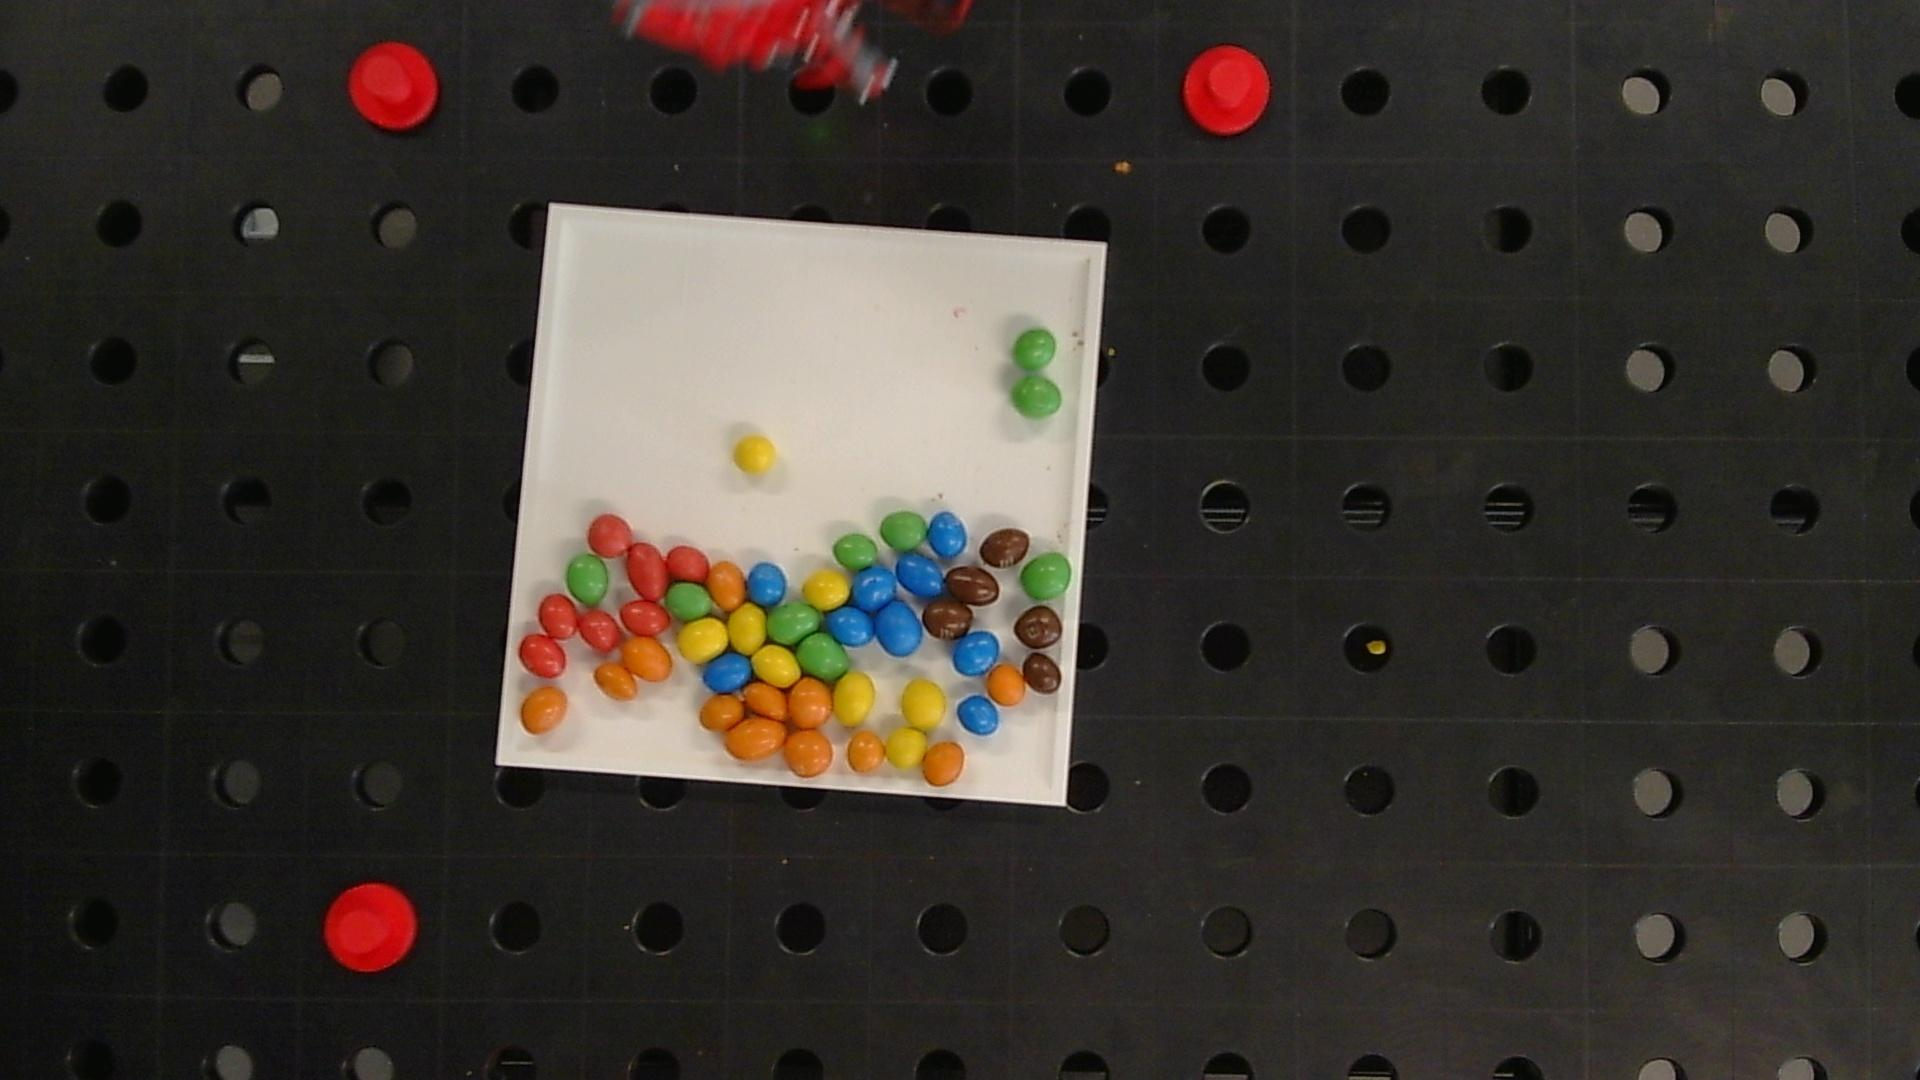blue: (876, 601, 923, 655), (895, 553, 943, 596), (953, 632, 1000, 675), (852, 568, 897, 612), (825, 608, 874, 646), (703, 654, 752, 692), (927, 512, 967, 556), (748, 562, 787, 604), (959, 695, 998, 736)
brown: (944, 566, 1000, 605), (1014, 605, 1063, 649), (922, 599, 972, 640), (980, 527, 1030, 567), (1023, 654, 1062, 694)
green: (798, 633, 848, 679), (767, 601, 822, 644), (1021, 554, 1071, 599), (566, 554, 609, 605), (1011, 376, 1063, 418), (881, 512, 927, 550), (1013, 330, 1056, 369), (833, 533, 877, 570), (667, 583, 711, 620)
orange: (724, 716, 786, 760), (621, 637, 673, 682), (521, 687, 568, 733), (785, 731, 833, 775), (789, 679, 832, 728), (922, 742, 964, 786), (709, 560, 746, 609), (847, 731, 885, 773), (595, 662, 637, 700), (745, 682, 787, 720), (988, 665, 1026, 705), (700, 694, 742, 731)
red: (628, 542, 667, 600), (520, 634, 567, 678), (587, 513, 632, 556), (621, 600, 671, 634), (539, 593, 578, 638), (578, 611, 620, 650), (666, 545, 709, 580)
yellow: (678, 617, 727, 662), (901, 680, 945, 729), (835, 674, 874, 725), (728, 604, 766, 653), (803, 571, 851, 609), (754, 646, 799, 684), (885, 727, 926, 767), (733, 435, 777, 473)
